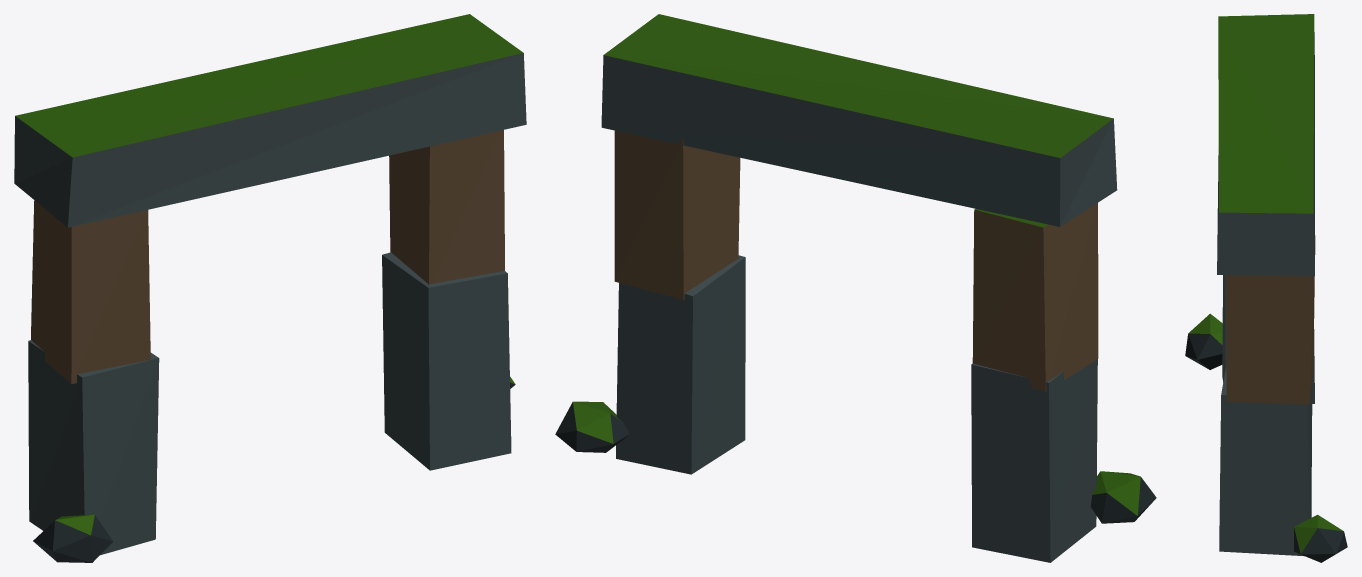
The model's file is world_landmark_stone_arch.fbx.
3 views of the same model, side by side, from view 1: azimuth 30°, elevation 25°; view 2: azimuth 150°, elevation 25°; view 3: azimuth 270°, elevation 25° (orthographic). The views are drawn at different scales.
Visible parts, largest first — view 1: world_landmark_stone_arch; view 2: world_landmark_stone_arch; view 3: world_landmark_stone_arch.
Part boxes in pixels (box(x1,y1,x2,y2)): world_landmark_stone_arch: box(14, 14, 526, 562); world_landmark_stone_arch: box(555, 14, 1156, 562); world_landmark_stone_arch: box(1185, 14, 1347, 562).
Size of the model in its own units: 2467 by 1846 by 768.
